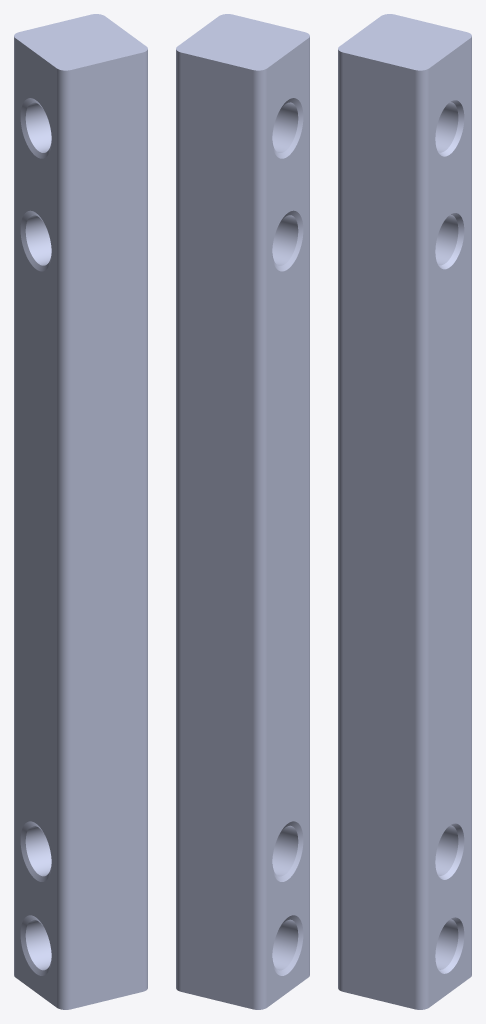
The model's file is Clamp Anchor.gltf.
3 renders of one model, left to right at view 1: azimuth 30°, elevation 25°; view 2: azimuth 150°, elevation 25°; view 3: azimuth 330°, elevation 25°, orthographic.
Visible parts, largest first — view 1: Clamp Anchor; view 2: Clamp Anchor; view 3: Clamp Anchor.
Part boxes in pixels (x1,y1,x2,y2): Clamp Anchor: (14,14,147,1009); Clamp Anchor: (176,14,309,1009); Clamp Anchor: (338,14,471,1009).
Size of the model in its own units: 0.01 by 0.1 by 0.01.
